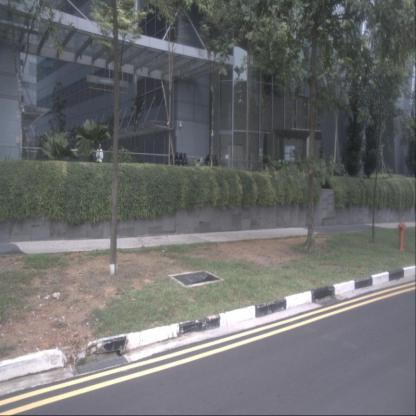human-pedestrian-adult: (96, 144, 103, 180)
